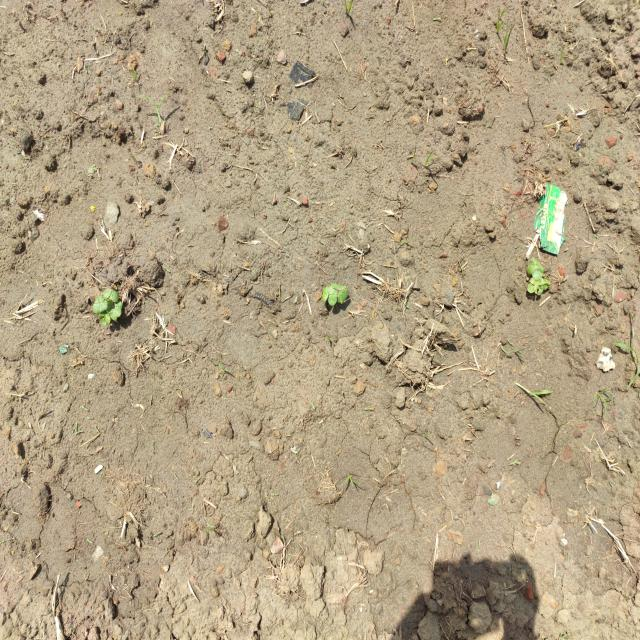seedling: (532, 263, 544, 281), (103, 289, 119, 302), (107, 301, 117, 321), (93, 300, 107, 314), (527, 283, 543, 295), (328, 286, 337, 306), (527, 257, 537, 274), (99, 311, 110, 326), (337, 290, 348, 304), (114, 301, 122, 317), (540, 278, 550, 290), (322, 286, 329, 302), (530, 278, 544, 286), (332, 283, 347, 290), (94, 296, 104, 304)
